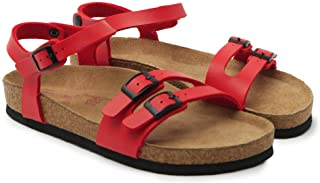shoes: (1, 1, 316, 178)
